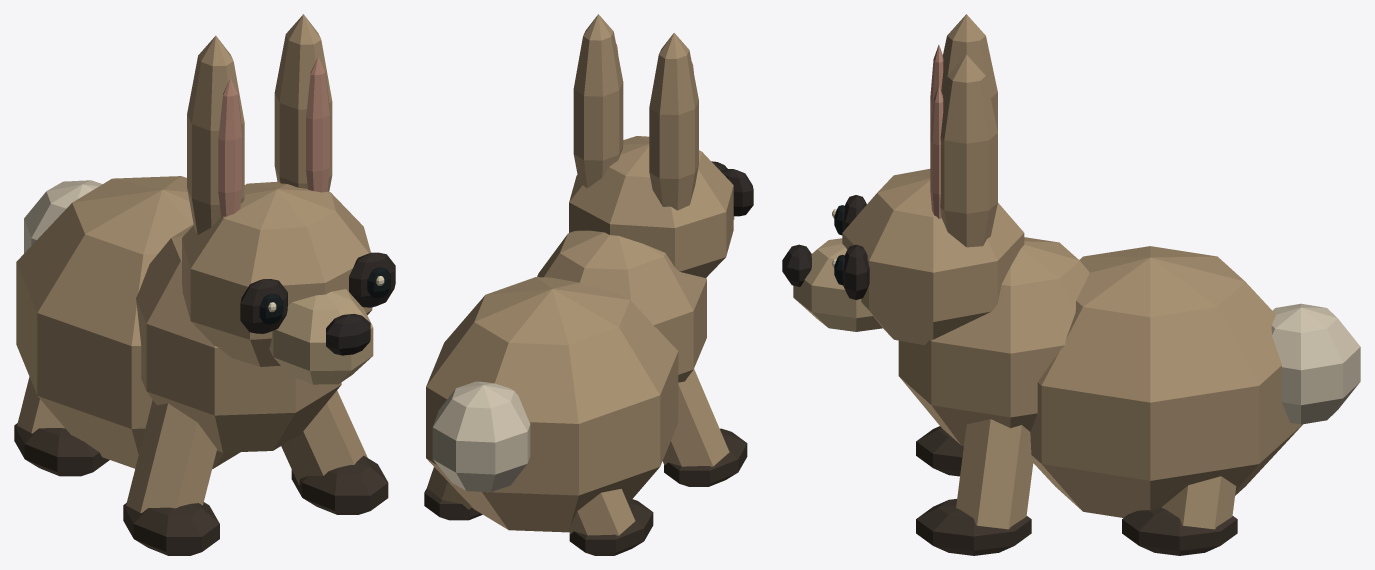
File: fauna-hare.glb
3 renders of one model, left to right at view 1: azimuth 30°, elevation 25°; view 2: azimuth 150°, elevation 25°; view 3: azimuth 270°, elevation 25°, orthographic. The views are drawn at different scales.
Visible parts, largest first — view 1: Fauna_hare; view 2: Fauna_hare; view 3: Fauna_hare.
Boxes of the visible parts, left/top/right/bottom form: Fauna_hare: left=14, top=14, right=395, bottom=555; Fauna_hare: left=424, top=14, right=753, bottom=555; Fauna_hare: left=782, top=14, right=1360, bottom=555.
Size of the model in its own units: 0.7418 by 1.43 by 1.57.
